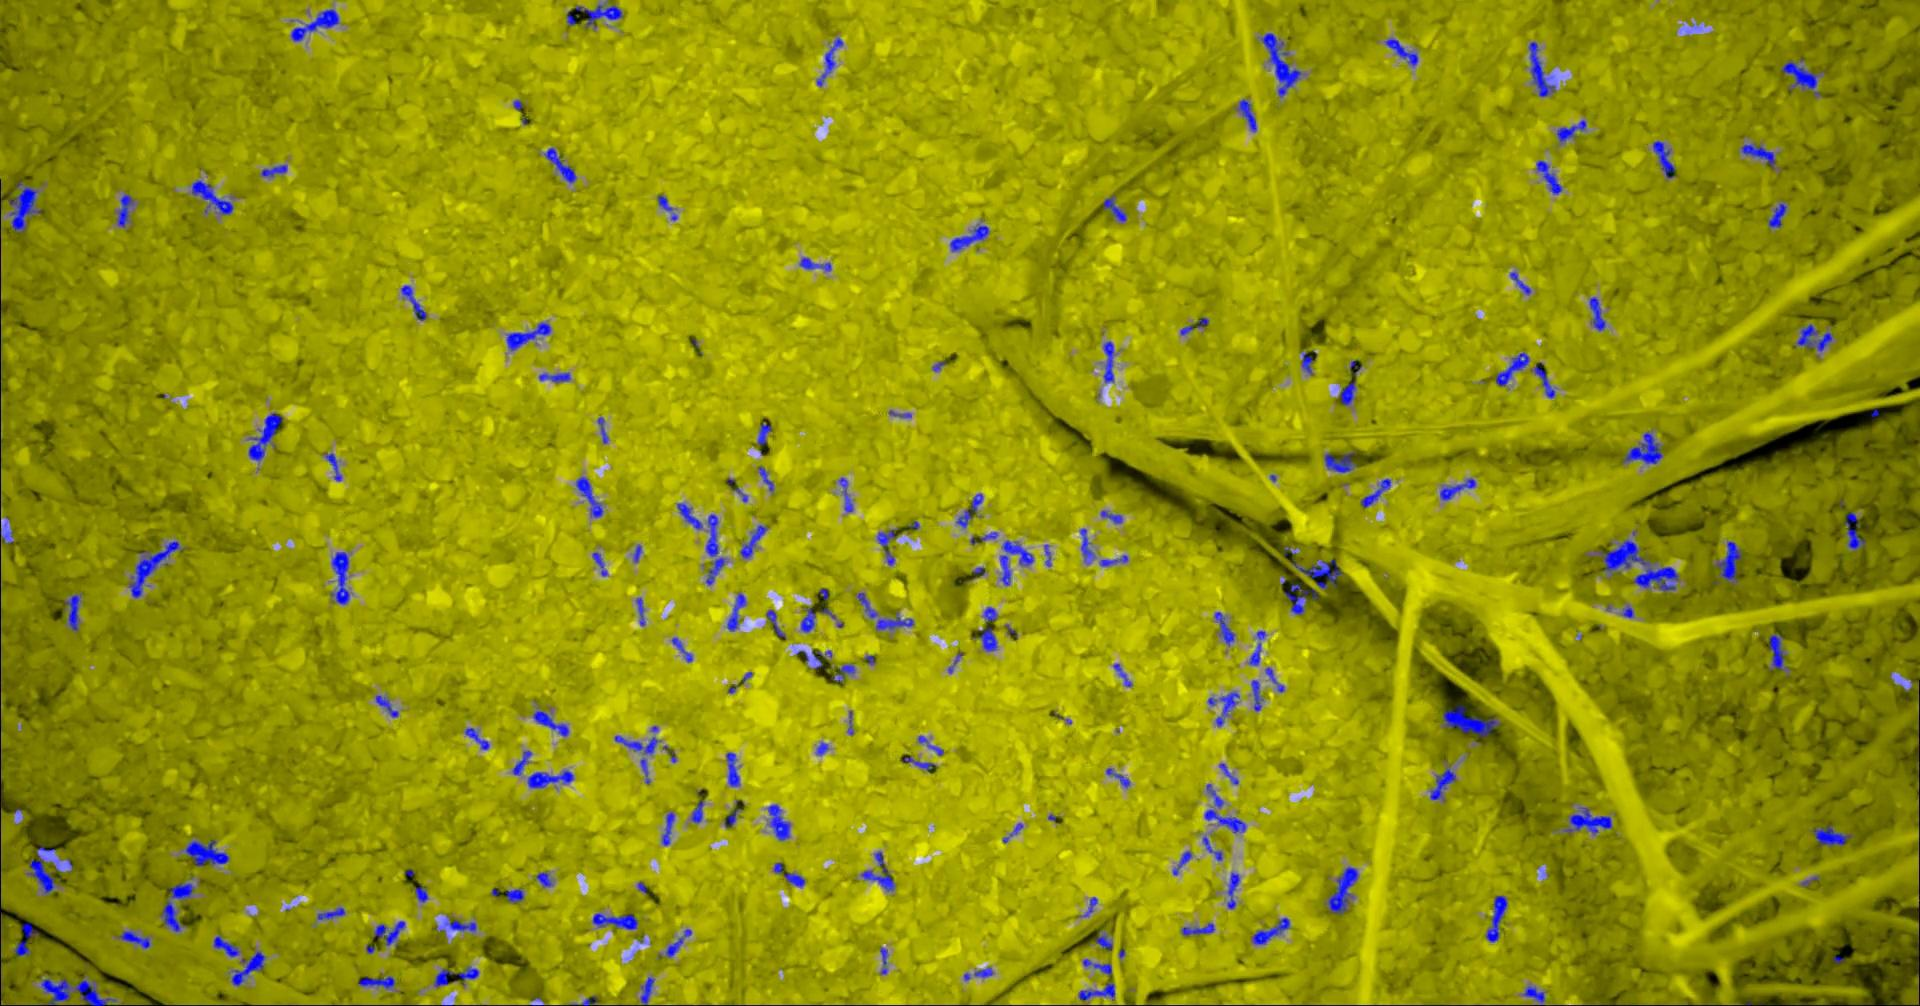ant: (1283, 559, 1342, 614), (128, 541, 184, 597), (1260, 32, 1302, 97), (1204, 782, 1244, 832), (41, 978, 116, 1005), (1443, 705, 1498, 737), (8, 180, 41, 232), (248, 412, 282, 460), (160, 882, 193, 931), (1528, 41, 1556, 97), (290, 9, 338, 41), (999, 540, 1032, 586), (1327, 866, 1357, 915), (190, 179, 232, 213), (25, 845, 55, 892), (1782, 60, 1820, 95), (860, 851, 894, 890), (1563, 807, 1611, 835), (705, 514, 724, 584), (1623, 431, 1662, 464), (566, 4, 622, 27), (817, 37, 842, 86), (505, 323, 550, 351), (184, 840, 229, 866), (543, 147, 577, 183), (231, 950, 264, 984), (1208, 691, 1239, 727), (1495, 352, 1528, 385), (575, 476, 602, 517), (949, 225, 988, 251), (1484, 895, 1507, 941), (330, 551, 349, 605), (1251, 917, 1289, 944), (1716, 541, 1741, 580), (1796, 324, 1832, 351), (400, 285, 425, 320), (532, 710, 568, 735), (1360, 478, 1390, 507), (1385, 38, 1417, 66), (739, 525, 766, 558), (1652, 140, 1675, 178), (1535, 160, 1561, 194), (956, 493, 982, 527), (13, 922, 38, 956), (1531, 361, 1554, 398), (1439, 478, 1476, 500), (1844, 511, 1865, 549), (1813, 824, 1851, 846), (615, 735, 660, 753), (527, 770, 573, 788), (767, 804, 790, 840), (373, 920, 404, 946), (1430, 767, 1455, 799), (1741, 144, 1775, 166), (1768, 633, 1788, 669), (773, 862, 804, 887), (665, 929, 691, 956), (876, 528, 895, 565), (726, 593, 745, 630), (1214, 611, 1234, 645), (592, 913, 637, 929), (1324, 451, 1356, 473), (677, 502, 702, 528), (1078, 981, 1114, 1000), (1556, 119, 1585, 142), (1236, 99, 1256, 131), (875, 612, 913, 629), (1102, 196, 1126, 221), (902, 754, 936, 772), (63, 593, 80, 630), (1248, 630, 1265, 666), (971, 627, 997, 650), (463, 727, 489, 749), (1589, 296, 1605, 330), (766, 608, 785, 638), (856, 592, 877, 617), (670, 636, 692, 662), (213, 935, 239, 956), (117, 194, 133, 227), (118, 930, 149, 948), (1082, 958, 1111, 976), (657, 194, 677, 220), (917, 735, 943, 754), (1079, 528, 1095, 561), (1225, 873, 1239, 908), (1509, 271, 1530, 293), (375, 695, 397, 716), (1105, 767, 1129, 788), (1265, 667, 1284, 692), (512, 749, 531, 775), (797, 257, 830, 271), (1180, 318, 1208, 334), (325, 452, 342, 480), (838, 478, 852, 511), (1203, 836, 1222, 860), (1172, 850, 1191, 874), (358, 976, 394, 988), (1340, 376, 1355, 405), (1112, 663, 1131, 686), (726, 752, 739, 786), (662, 810, 674, 845), (1768, 203, 1785, 227), (1102, 340, 1112, 382), (757, 466, 773, 492), (1181, 922, 1214, 935), (1523, 986, 1544, 1005), (963, 967, 992, 981), (640, 976, 654, 1005), (832, 664, 855, 682), (443, 920, 476, 931), (800, 607, 815, 631), (1251, 680, 1262, 711), (1219, 763, 1237, 784), (1095, 930, 1112, 950), (433, 968, 453, 986), (592, 553, 607, 575), (811, 650, 830, 668), (724, 808, 742, 827), (317, 907, 344, 920), (458, 967, 477, 984), (1098, 555, 1128, 567), (538, 372, 570, 382), (1302, 351, 1316, 373), (757, 422, 771, 445), (690, 799, 703, 822), (262, 164, 286, 177), (1100, 511, 1123, 523), (597, 417, 607, 443), (535, 871, 552, 887), (571, 995, 597, 1005), (636, 597, 645, 625), (505, 888, 523, 902), (879, 948, 888, 974), (983, 606, 996, 621), (414, 887, 427, 902), (0, 528, 11, 542)
